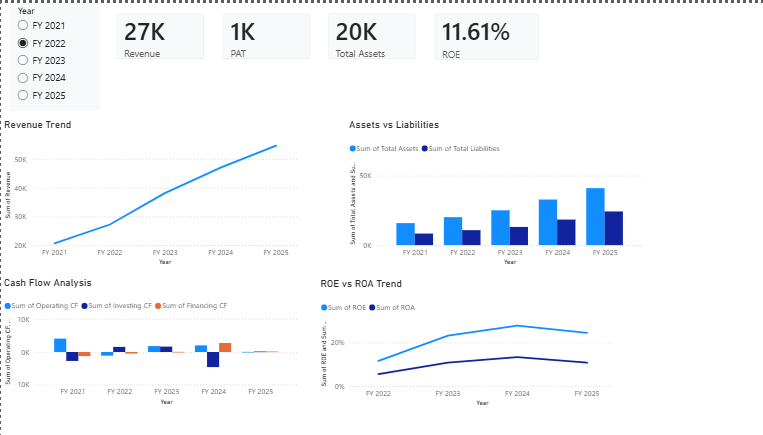

Layout of this report page (visuals, bound fields, positions):
{"tool":"powerbi","page":{"name":"Page 1","canvas":[1280,720],"ordinal":0},"visuals":[{"type":"slicer","fields":{"Values":["Sheet1.Year"]},"box":[16,0,150,180],"z":0},{"type":"cardVisual","fields":{"Data":["Sum(Sheet1.Revenue )"]},"box":[176,0,180,110],"z":1},{"type":"cardVisual","fields":{"Data":["Sum(Sheet1.PAT)"]},"box":[352,0,180,110],"z":2},{"type":"cardVisual","fields":{"Data":["Sum(Sheet1.Total Assets)"]},"box":[528,0,180,110],"z":3},{"type":"cardVisual","fields":{"Data":["Sum(Sheet1.ROE)"]},"box":[704,0,208,112],"z":4},{"type":"lineChart","title":"Revenue Trend","fields":{"Category":["Sheet1.Year"],"Y":["Sum(Sheet1.Revenue )"]},"box":[0,192,500,250],"z":5},{"type":"clusteredColumnChart","title":"Assets vs Liabilities","fields":{"Category":["Sheet1.Year"],"Y":["Sum(Sheet1.Total Assets)","Sum(Sheet1.Total Liabilities)"]},"box":[576,192,500,250],"z":6},{"type":"clusteredColumnChart","title":"Cash Flow Analysis","fields":{"Category":["Sheet1.Year"],"Y":["Sum(Sheet1.Operating CF)","Sum(Sheet1.Investing CF)","Sum(Sheet1.Financing CF)"]},"box":[0,454,500,220],"z":7},{"type":"lineChart","title":"ROE vs ROA Trend","fields":{"Category":["Sheet1.Year"],"Y":["Sum(Sheet1.ROE)","Sum(Sheet1.ROA)"]},"box":[528,458,500,220],"z":8}]}

Visuals, with their boxes in screenshot pixels (x1, y1, x2, y2), scaled from the page's 1280x720 canvas onto the 763x435 screenshot:
slicer - Sheet1.Year: bbox=[10, 0, 99, 109]
cardVisual - Sum(Sheet1.Revenue ): bbox=[105, 0, 212, 66]
cardVisual - Sum(Sheet1.PAT): bbox=[210, 0, 317, 66]
cardVisual - Sum(Sheet1.Total Assets): bbox=[315, 0, 422, 66]
cardVisual - Sum(Sheet1.ROE): bbox=[420, 0, 544, 68]
"Revenue Trend" lineChart: bbox=[0, 116, 298, 267]
"Assets vs Liabilities" clusteredColumnChart: bbox=[343, 116, 641, 267]
"Cash Flow Analysis" clusteredColumnChart: bbox=[0, 274, 298, 407]
"ROE vs ROA Trend" lineChart: bbox=[315, 277, 613, 410]
